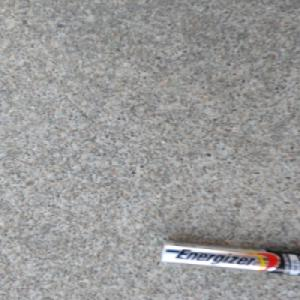Battery: (153, 238, 300, 278)
